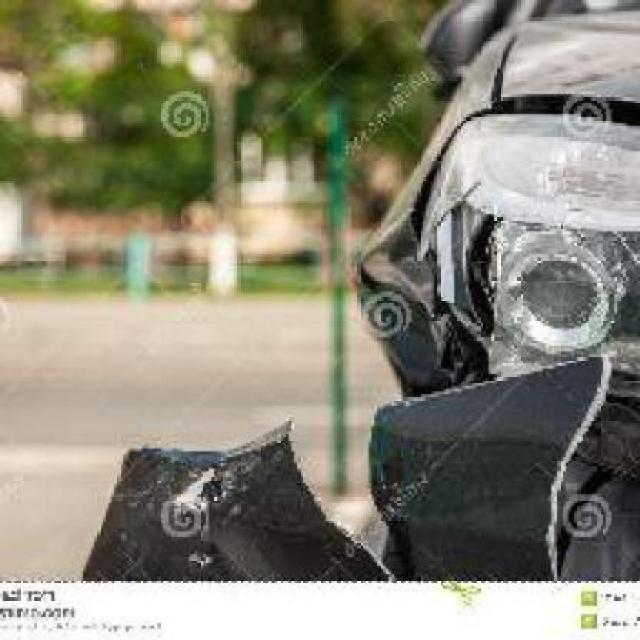damaged-head-light: (428, 137, 638, 394)
